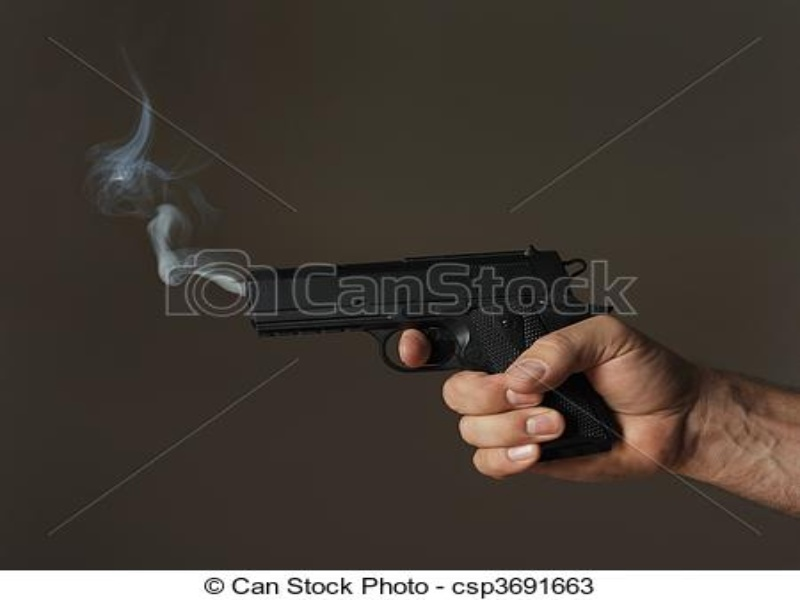gun: (227, 238, 620, 479)
